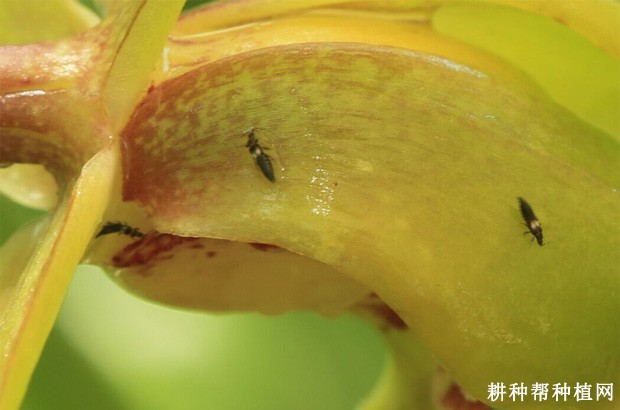thrips: (243, 125, 279, 183), (517, 196, 545, 246), (93, 219, 145, 241)
